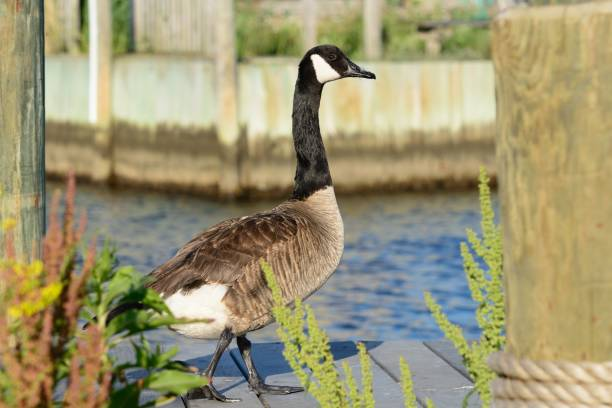goose: (113, 43, 378, 401)
